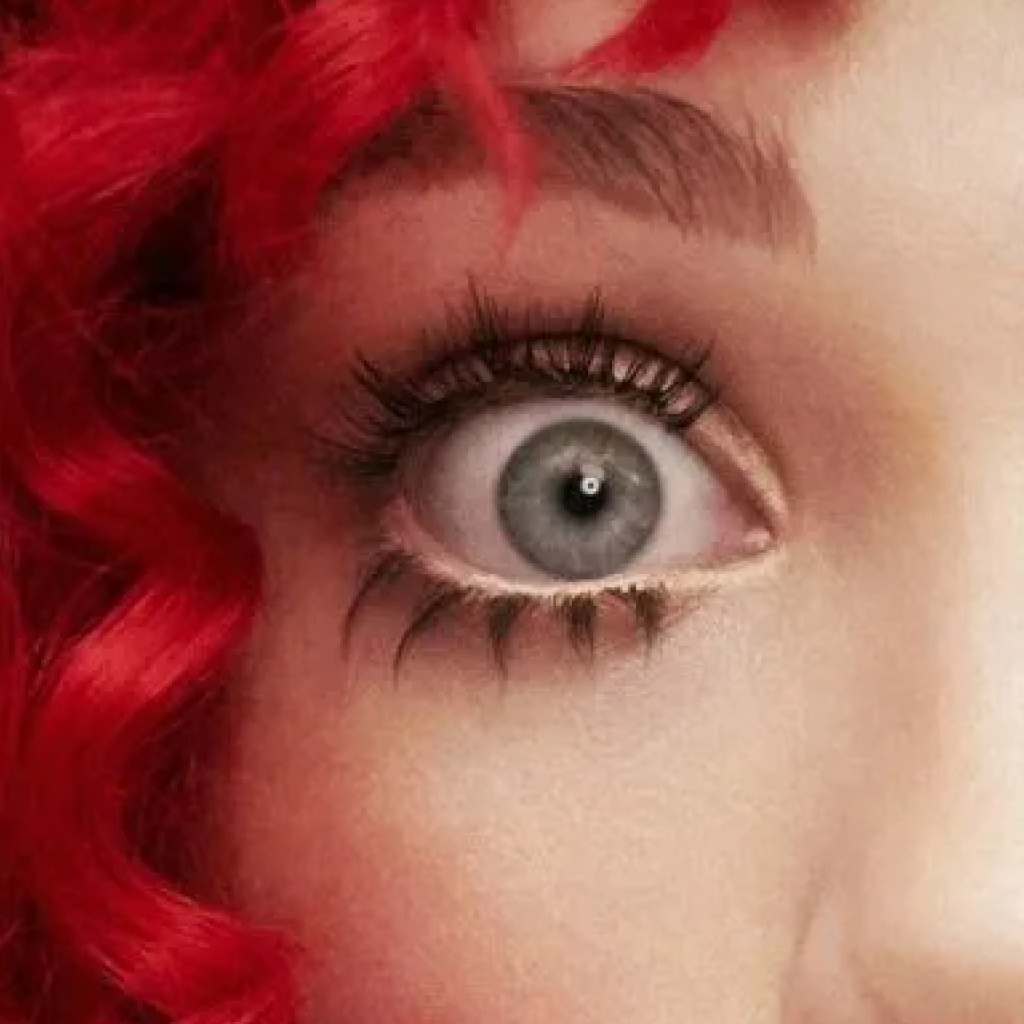iris: (499, 421, 662, 580)
pupil: (563, 469, 611, 515)
sclera: (425, 398, 729, 583)
